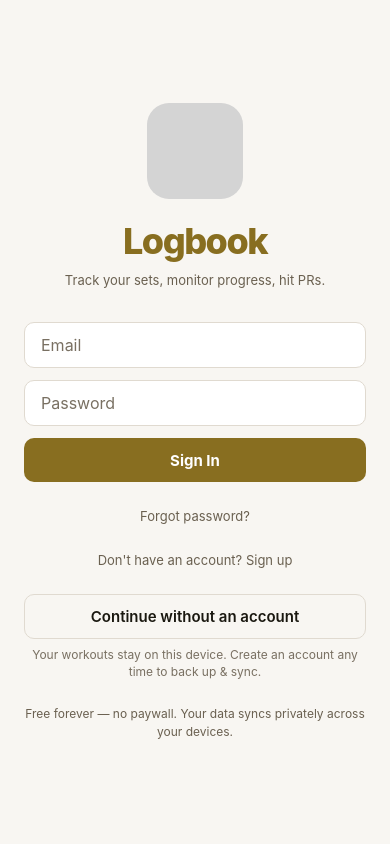
Scenario: AuthScreen › sign-up › shows confirmation message when email verification needed
Click the button with class "authModeSwitch" at (195, 560), box [98,538,292,582]
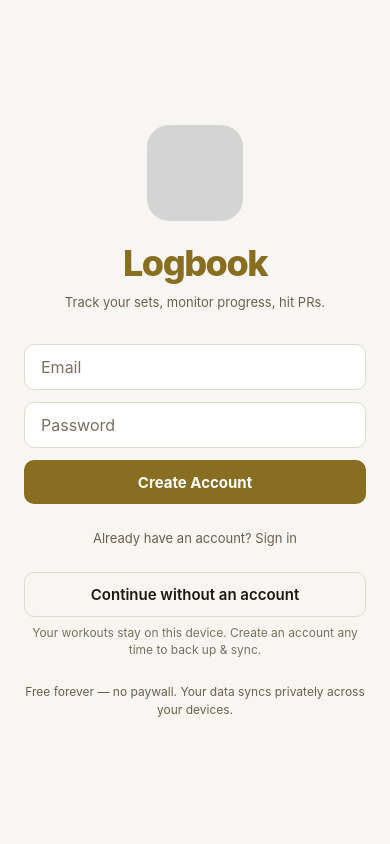
Type "new@example.com" into the field with placeholder "Email" at (195, 368), box [24,344,366,390]
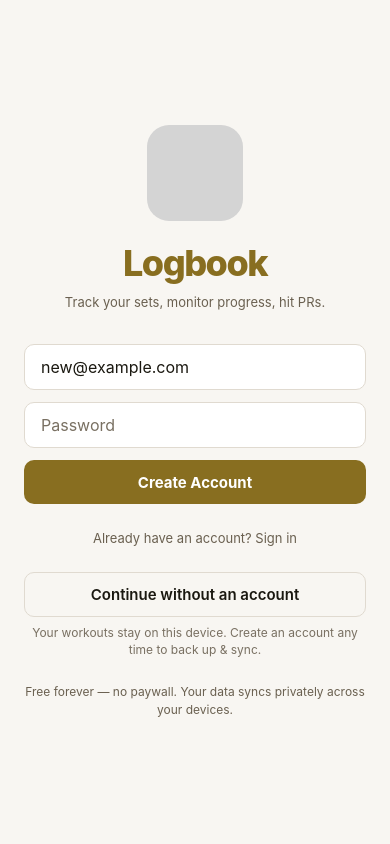
Type "newpass123" into the password field with placeholder "Password" at (195, 426), box [24,402,366,448]
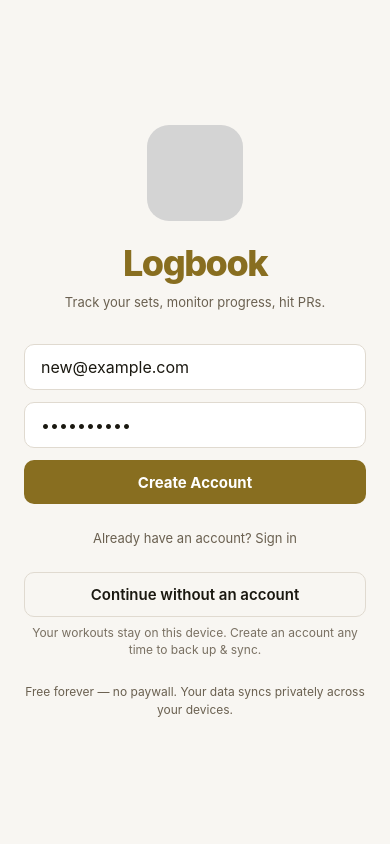
Submit the form, box [24,344,366,504]
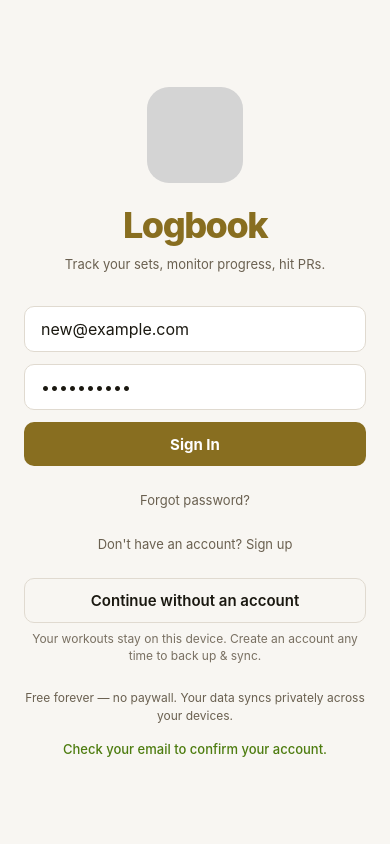
expect the message with class "authMessage" shows "Check your email": met, box [63,741,327,757]
